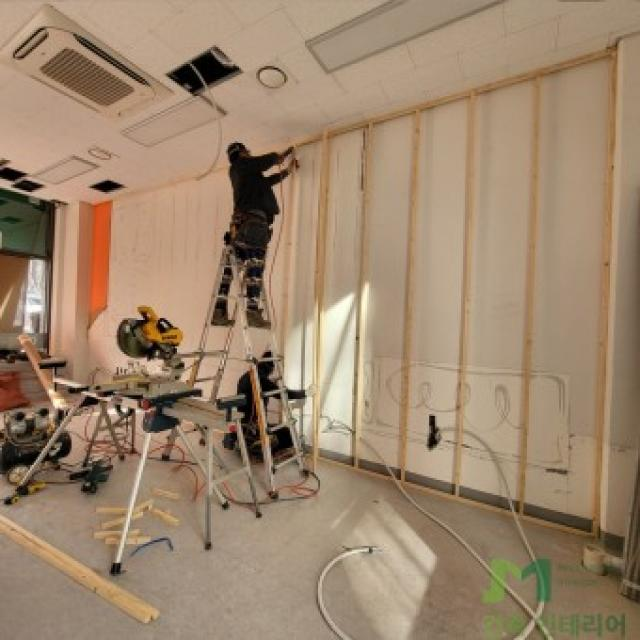stud: (277, 42, 618, 540)
wood: (0, 515, 159, 623)
